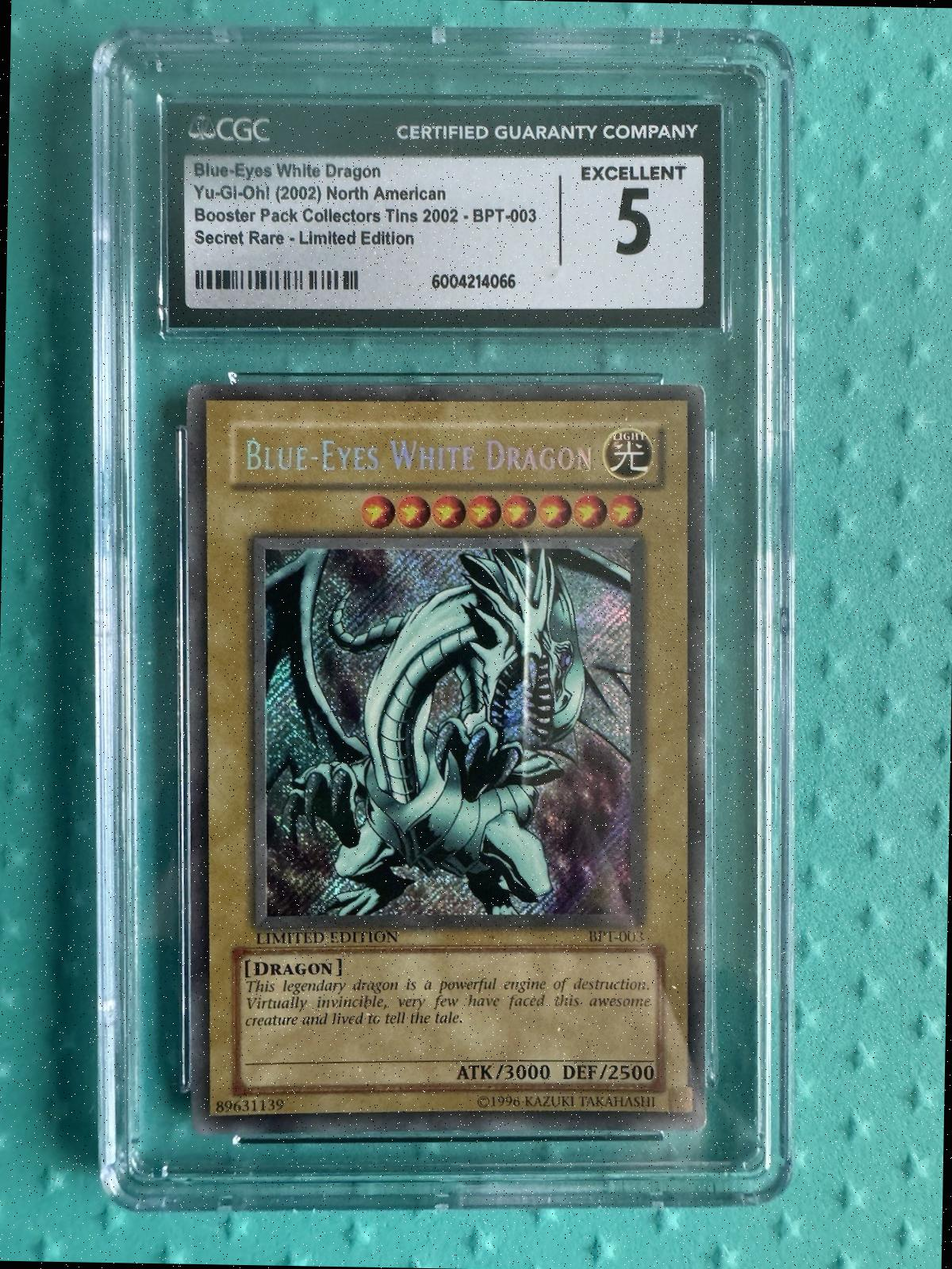card-2UtV: (187, 383, 707, 1135)
